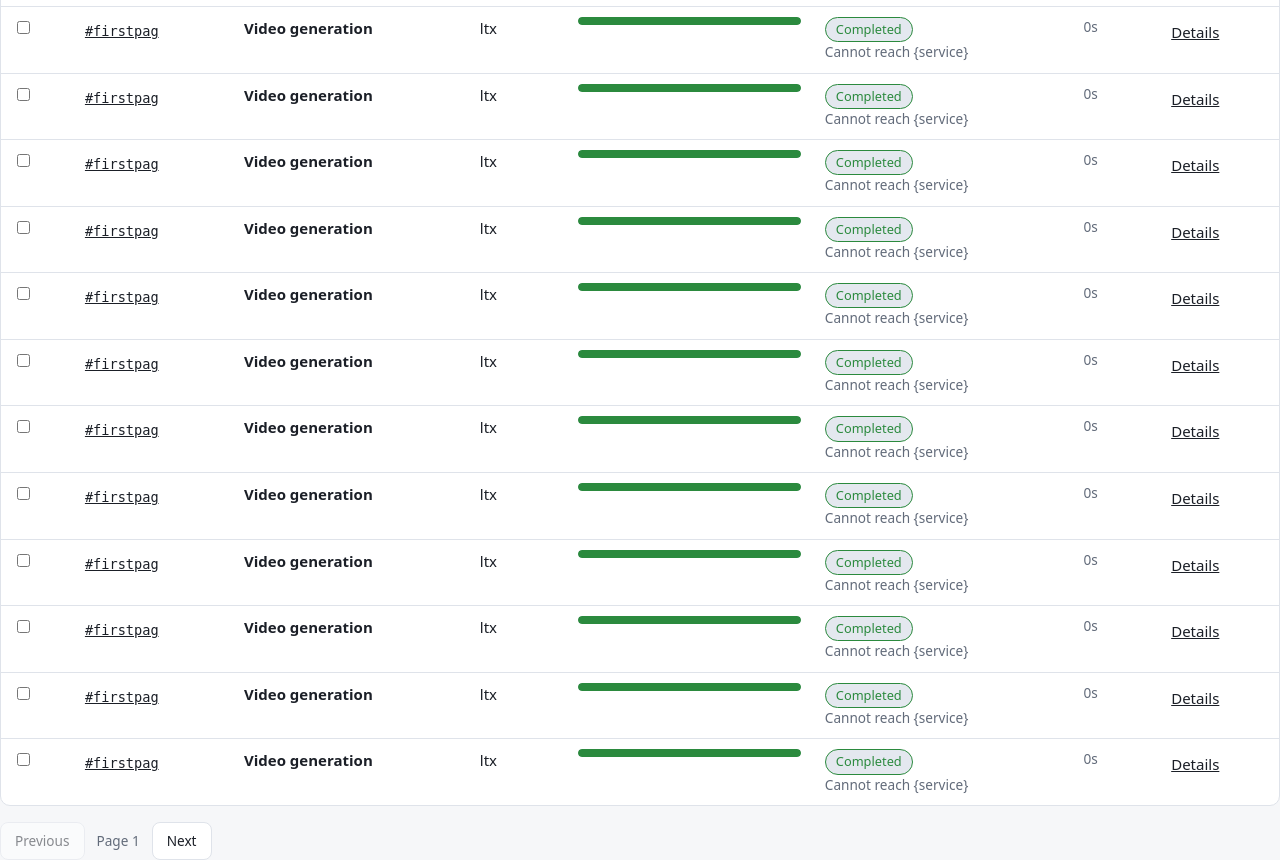
Test: returns to the previous page after deleting the last row of a later page
This screenshot has width=1280, height=860.
(page scrolled)
What coordinates should you click on to do the following:
click the button "Next"
I would click on:
 (182, 841)
Its box is [152,822,212,859].
(page scrolled)
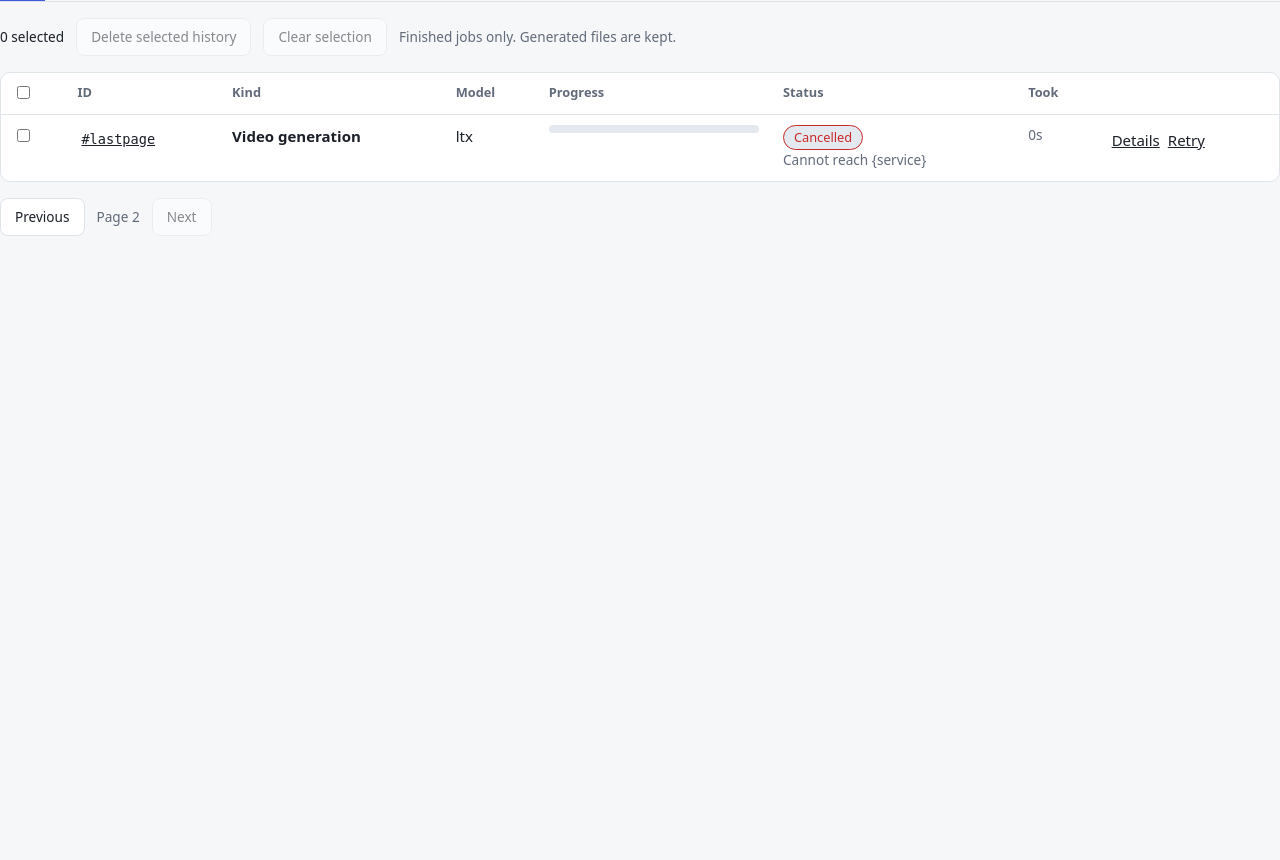
Now the button "#lastpage" is shown, box [77,125,159,154]
What coordinates should you click on to do the following:
click the checkbox named "Select finished jobs on this page"
I would click on:
 (24, 92)
Its box is [17,86,30,99].
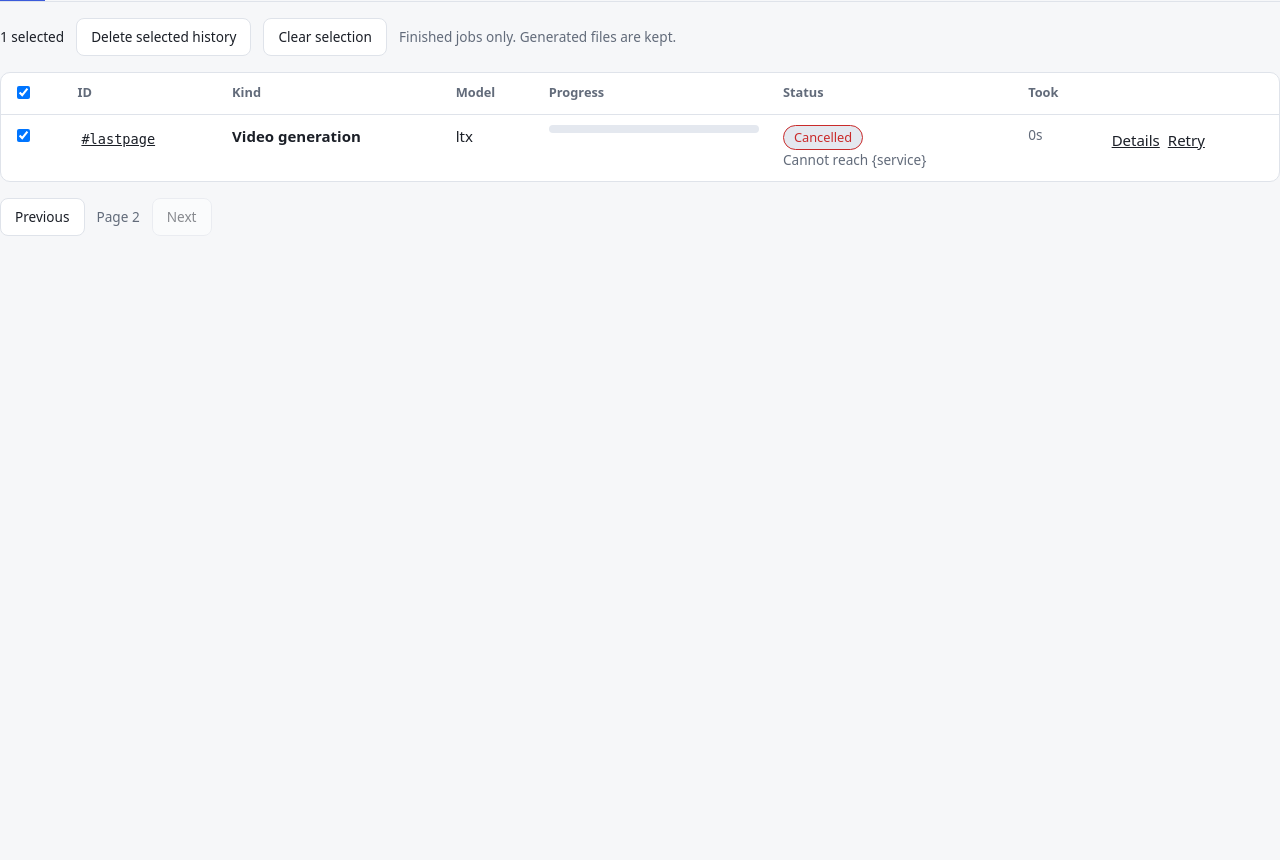
What coordinates should you click on to do the following:
click the button "Delete selected history"
I would click on:
 (164, 37)
Its box is [76,18,251,56].
(page scrolled)
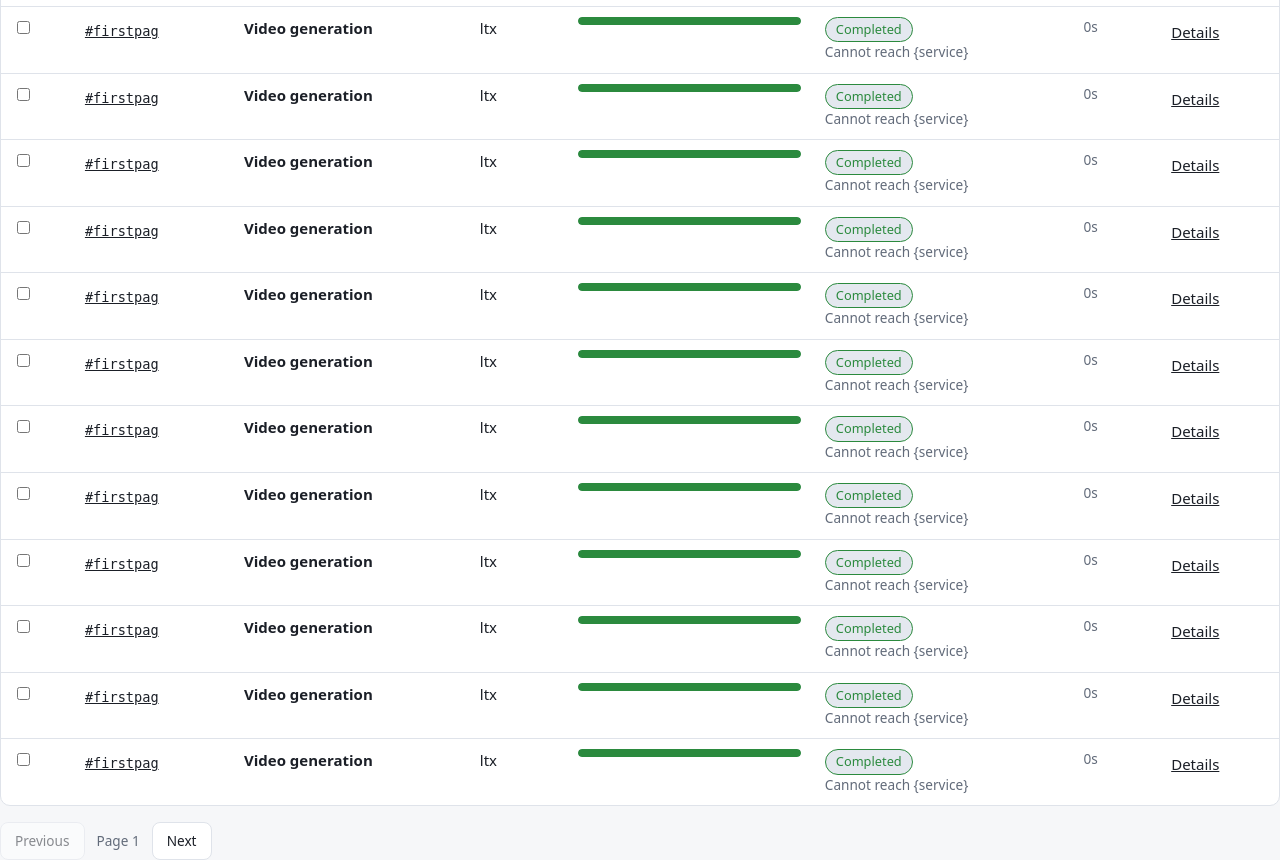
Now the text "Page 1" is shown, box [96,831,140,851]
Now the button "Previous" is disabled, box [0,822,84,859]
